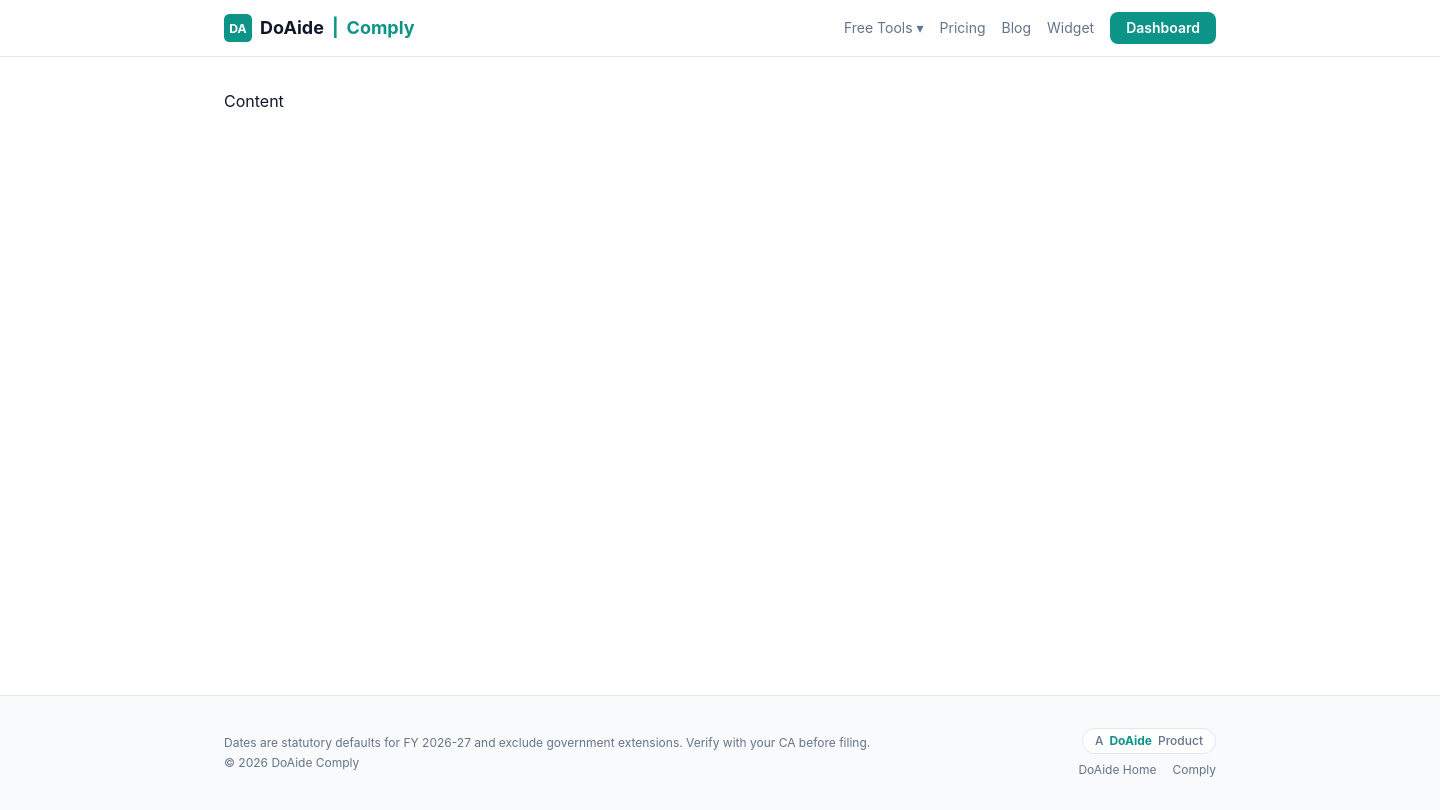
Test: Free Tools navigation › closes after following a tool link
Step 1. Click the button "Free Tools ▾" → click(884, 28), box [844,18,924,38]
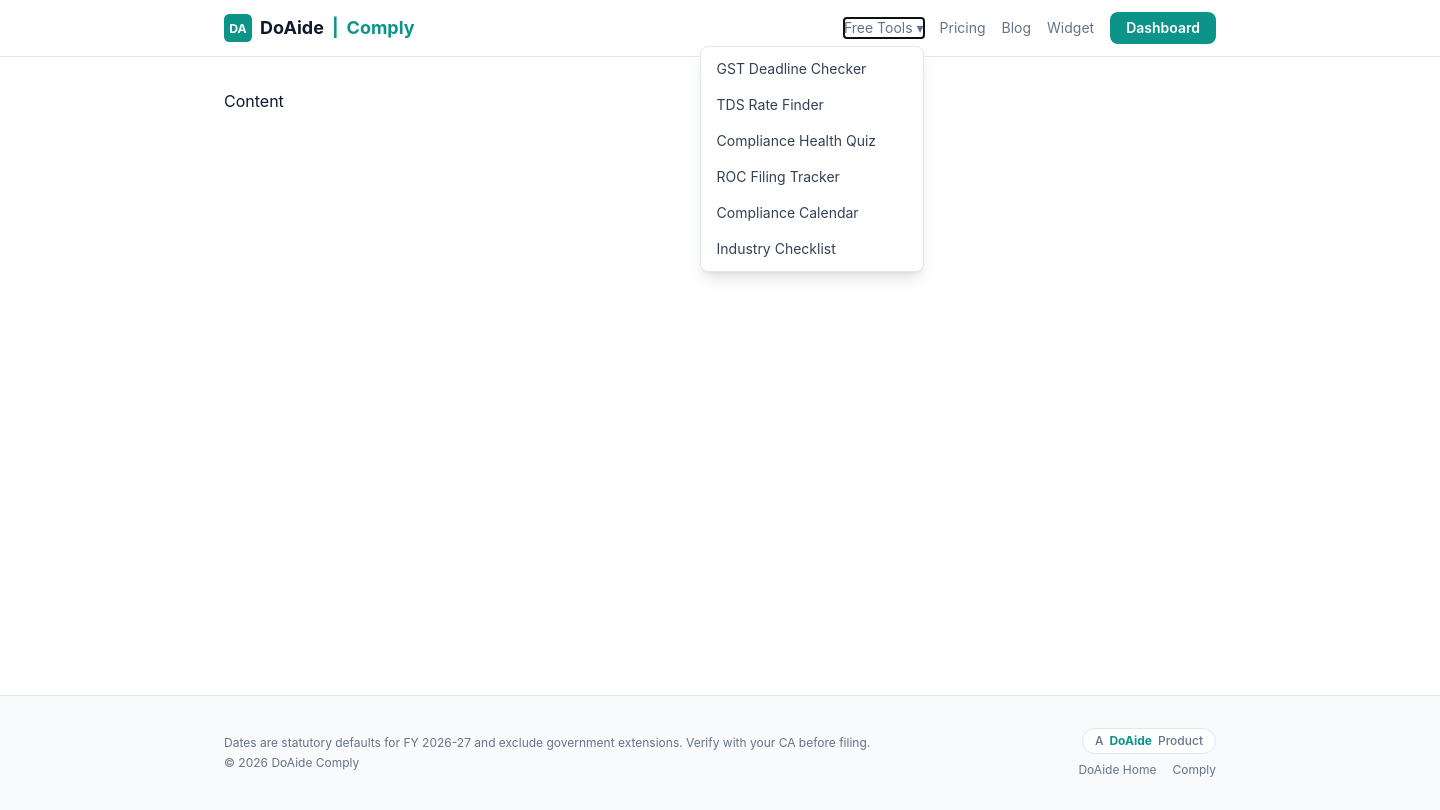
Step 2. Click the link "GST Deadline Checker" → click(791, 68), box [716,60,866,77]
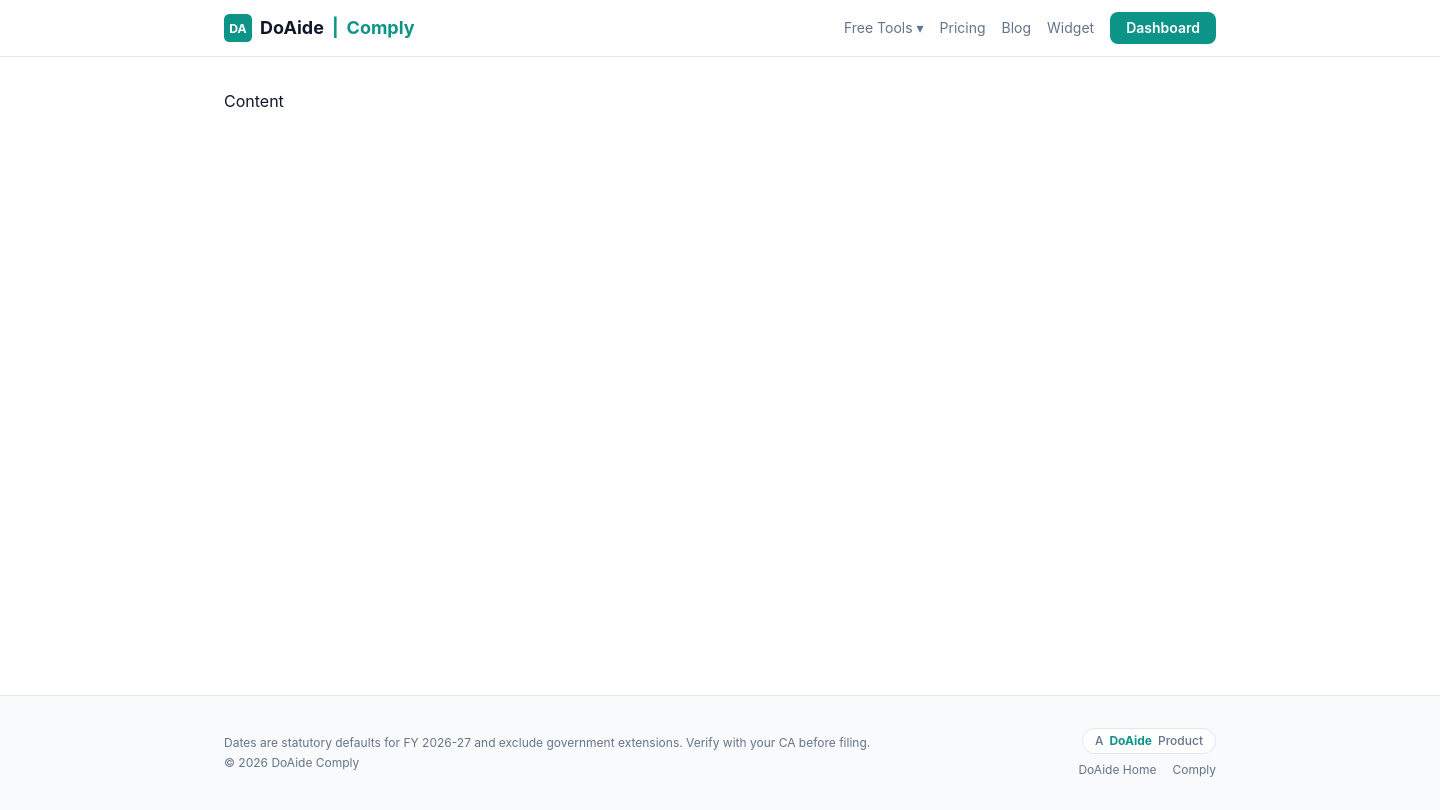
expect the button "Free Tools ▾" is collapsed: met, box [844,18,924,38]
